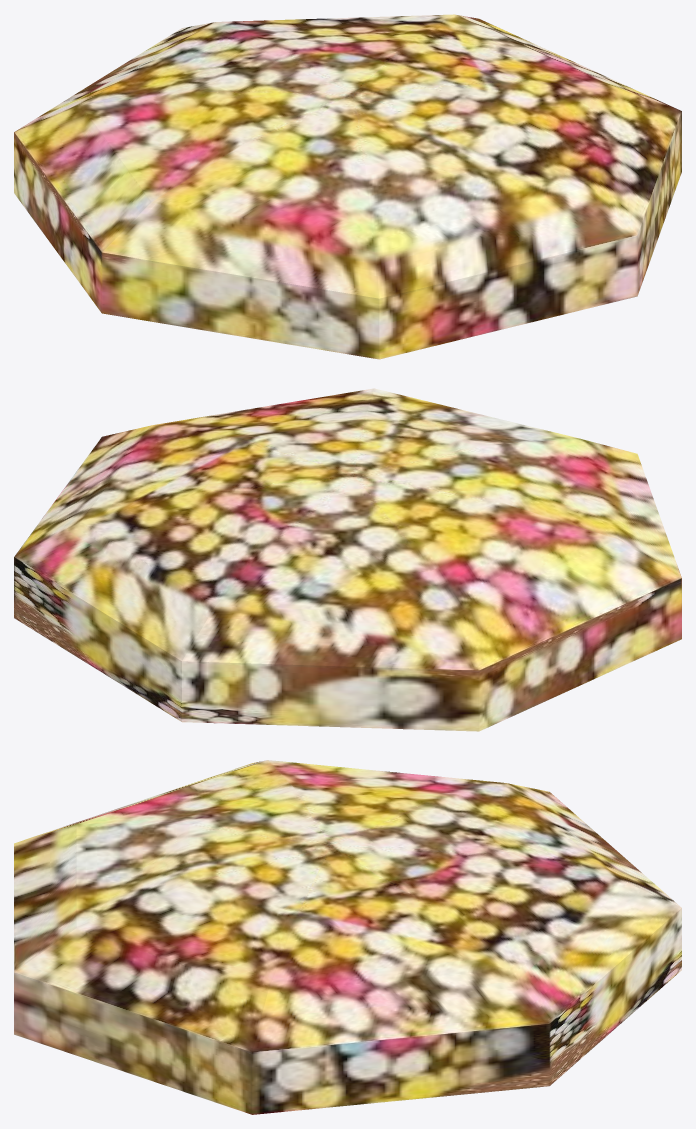
Rendered from jazzies.glb.
3 renders of one model, top to bottom at view 1: azimuth 30°, elevation 25°; view 2: azimuth 150°, elevation 25°; view 3: azimuth 270°, elevation 25°, orthographic. The views are drawn at different scales.
Parts seen in each view (by area): view 1: Sphere; view 2: Sphere; view 3: Sphere.
Boxes of the visible parts, x1,y1,x2,y2 form: Sphere: [14, 14, 681, 359]; Sphere: [14, 388, 681, 731]; Sphere: [14, 760, 681, 1114].
Bounding box in the file's own units: 1.9 × 0.3978 × 1.85.
Materials: 1 (1 with a texture image).
